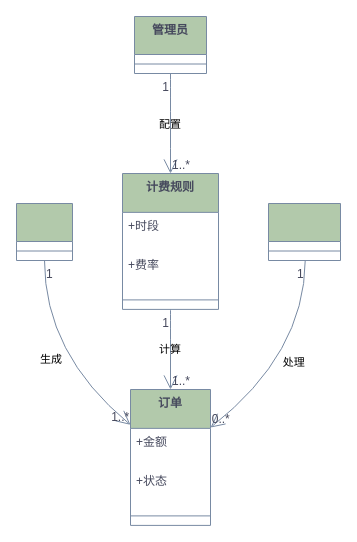
The diagram is 357 pixels wide and 542 high, and some of its shapes have lost their labels. Each missing label, with the centre of its shape:
"值班员" goes at point (304, 231).
"用户" goes at point (44, 231).
